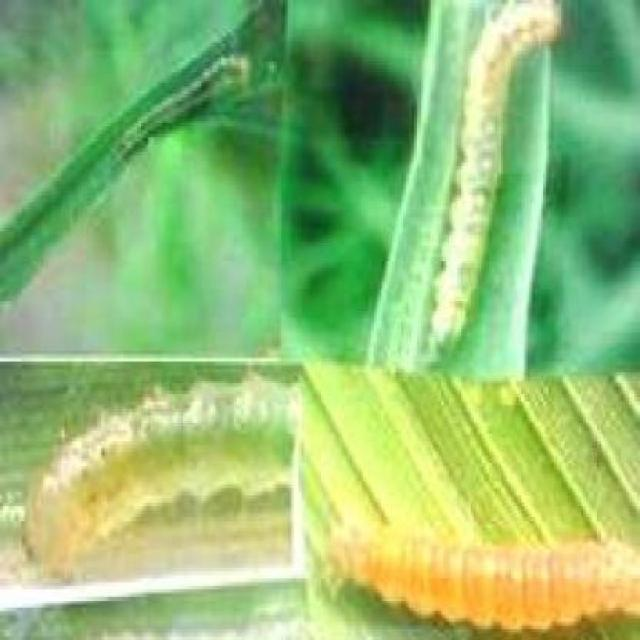leaf-folder: (14, 365, 295, 569), (417, 0, 571, 368), (317, 500, 640, 640), (105, 48, 260, 166)
